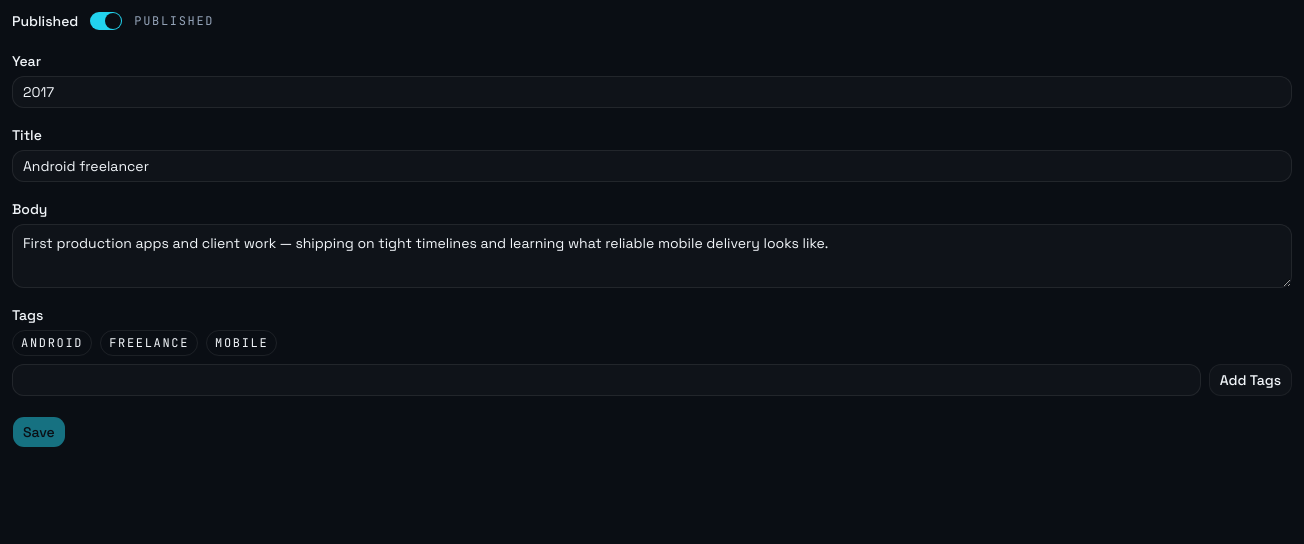
Test: EditorForm › blocks save when a required field is cleared
Clear the field labelled "Title" at (652, 166), box [12,150,1292,182]
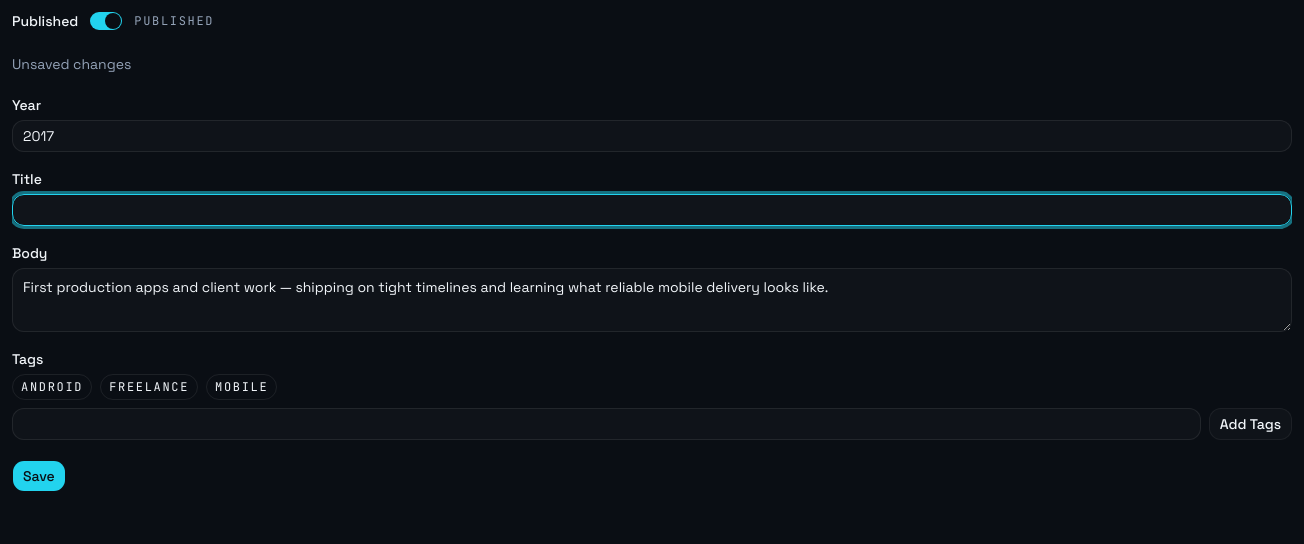
Click the button "Save" at (39, 476), box [12,460,66,492]
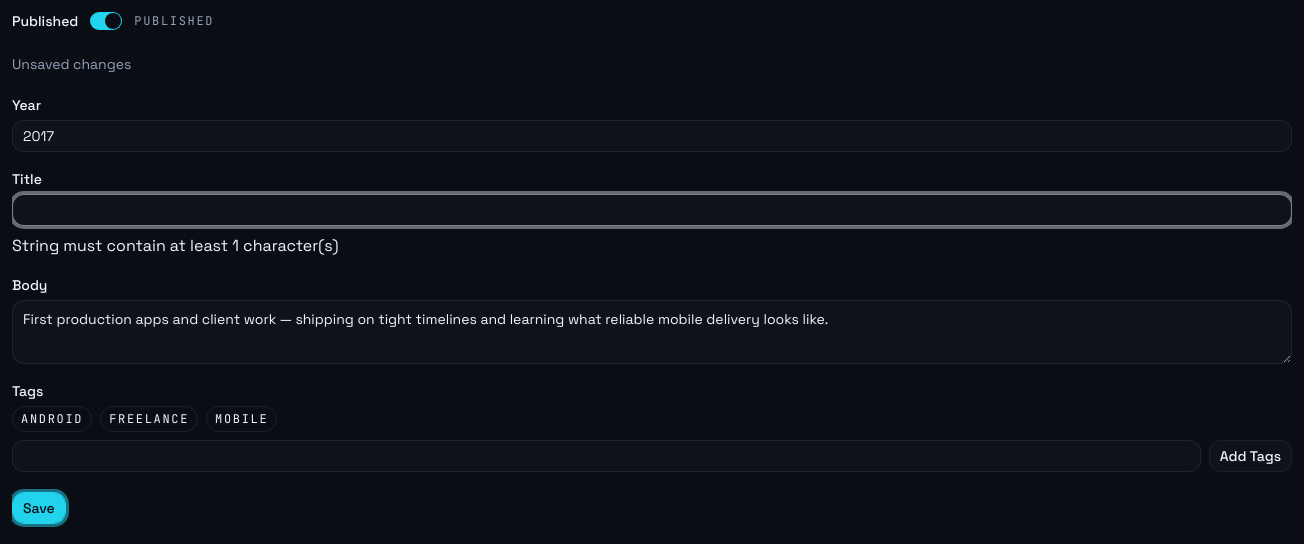
Expected: the message "String must contain at least 1 character(s)" is shown, [12,235,339,256]
